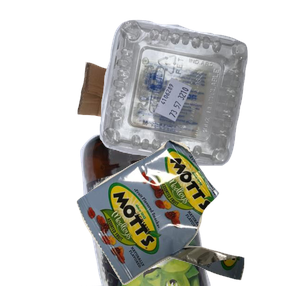cardboard: (75, 59, 237, 176)
glass: (78, 120, 281, 300)
plastic: (97, 17, 300, 176)
trash: (74, 137, 300, 300)
